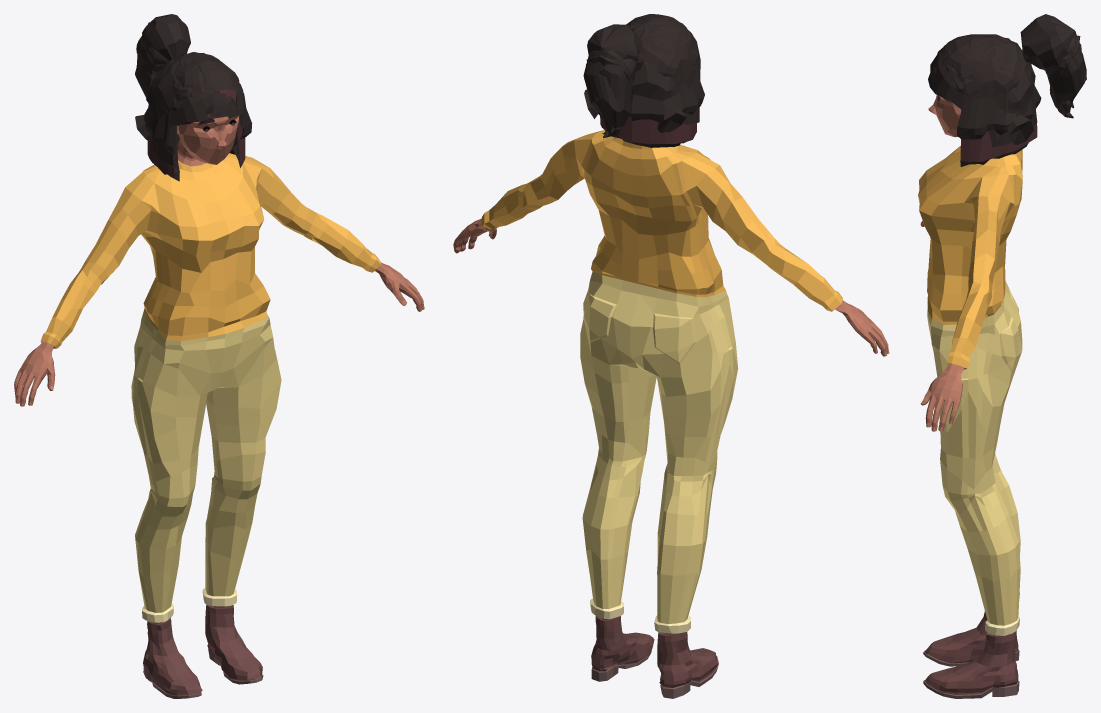
Rendered from character_NPC_F_03.fbx.
3 views of the same model, side by side, from view 1: azimuth 30°, elevation 25°; view 2: azimuth 150°, elevation 25°; view 3: azimuth 270°, elevation 25° (orthographic). The views are drawn at different scales.
Visible parts, largest first — view 1: charaBody_npcF_V03_geo, charaHair_NPC_F_V02_geo, charaHair_NPC_F_V03_geo, charaHair_NPC_F_V08_geo, charaHair_NPC_F_V09_geo, charaHair_NPC_F_V07_geo, charaHair_NPC_F_V01_geo, charaHair_NPC_F_V10_geo, charaHair_NPC_F_V05_geo; view 2: charaBody_npcF_V03_geo, charaHair_NPC_F_V03_geo, charaHair_NPC_F_V05_geo, charaHair_NPC_F_V02_geo, charaHair_NPC_F_V01_geo, charaHair_NPC_F_V08_geo, charaHair_NPC_F_V10_geo, charaHair_NPC_F_V04_geo; view 3: charaBody_npcF_V03_geo, charaHair_NPC_F_V03_geo, charaHair_NPC_F_V08_geo, charaHair_NPC_F_V02_geo, charaHair_NPC_F_V05_geo, charaHair_NPC_F_V10_geo, charaHair_NPC_F_V01_geo, charaHair_NPC_F_V09_geo, charaHair_NPC_F_V07_geo, charaHair_NPC_F_V06_geo.
Boxes of the visible parts, left/top/right/bottom form: charaBody_npcF_V03_geo: left=14, top=115, right=424, bottom=698; charaHair_NPC_F_V02_geo: left=150, top=54, right=243, bottom=169; charaHair_NPC_F_V03_geo: left=144, top=53, right=252, bottom=181; charaHair_NPC_F_V08_geo: left=142, top=14, right=231, bottom=134; charaHair_NPC_F_V09_geo: left=168, top=58, right=242, bottom=116; charaHair_NPC_F_V07_geo: left=175, top=26, right=237, bottom=135; charaHair_NPC_F_V01_geo: left=147, top=89, right=245, bottom=178; charaHair_NPC_F_V10_geo: left=135, top=52, right=234, bottom=140; charaHair_NPC_F_V05_geo: left=135, top=22, right=163, bottom=98; charaBody_npcF_V03_geo: left=453, top=130, right=889, bottom=698; charaHair_NPC_F_V03_geo: left=605, top=25, right=704, bottom=147; charaHair_NPC_F_V05_geo: left=583, top=50, right=636, bottom=137; charaHair_NPC_F_V02_geo: left=598, top=20, right=700, bottom=124; charaHair_NPC_F_V01_geo: left=600, top=116, right=696, bottom=143; charaHair_NPC_F_V08_geo: left=587, top=24, right=685, bottom=73; charaHair_NPC_F_V10_geo: left=584, top=14, right=686, bottom=132; charaHair_NPC_F_V04_geo: left=599, top=58, right=636, bottom=133; charaBody_npcF_V03_geo: left=918, top=95, right=1022, bottom=698; charaHair_NPC_F_V03_geo: left=932, top=38, right=1041, bottom=166; charaHair_NPC_F_V08_geo: left=950, top=14, right=1074, bottom=71; charaHair_NPC_F_V02_geo: left=937, top=36, right=1037, bottom=147; charaHair_NPC_F_V05_geo: left=1045, top=31, right=1086, bottom=118; charaHair_NPC_F_V10_geo: left=930, top=34, right=1033, bottom=144; charaHair_NPC_F_V01_geo: left=935, top=55, right=1037, bottom=161; charaHair_NPC_F_V09_geo: left=928, top=35, right=1021, bottom=100; charaHair_NPC_F_V07_geo: left=930, top=34, right=1058, bottom=80; charaHair_NPC_F_V06_geo: left=990, top=35, right=1086, bottom=117.
Size of the model in its own units: 321 by 480 by 112.
